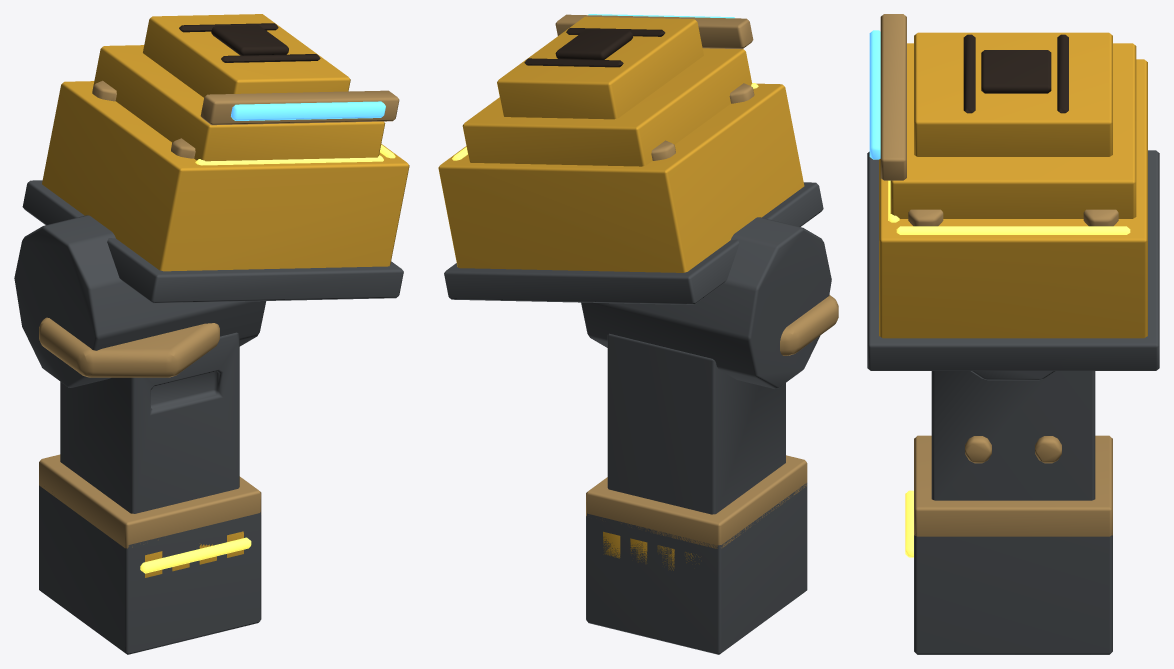
Rendered from grumble_co_slab_pauldron.glb.
3 views of the same model, side by side, from view 1: azimuth 30°, elevation 25°; view 2: azimuth 150°, elevation 25°; view 3: azimuth 270°, elevation 25° (orthographic). The views are drawn at different scales.
Visible parts, largest first — view 1: grumble_co_slab_pauldron; view 2: grumble_co_slab_pauldron; view 3: grumble_co_slab_pauldron.
Part boxes in pixels (<box>): grumble_co_slab_pauldron: <box>14,14,409,654</box>; grumble_co_slab_pauldron: <box>438,14,838,654</box>; grumble_co_slab_pauldron: <box>867,14,1159,654</box>.
Size of the model in its own units: 0.6781 by 1.16 by 0.5.
Materials: 1 (1 with a texture image).
